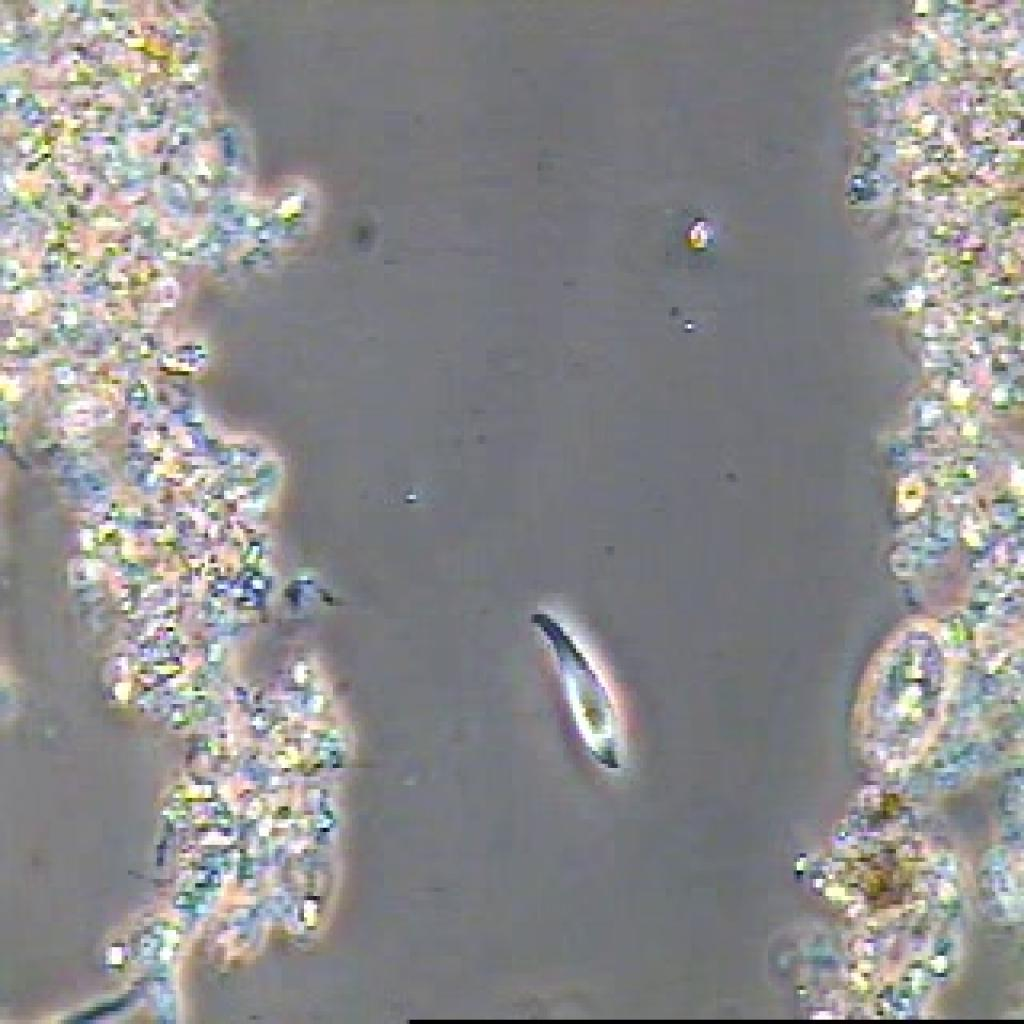Pristina: (499, 585, 634, 802)
